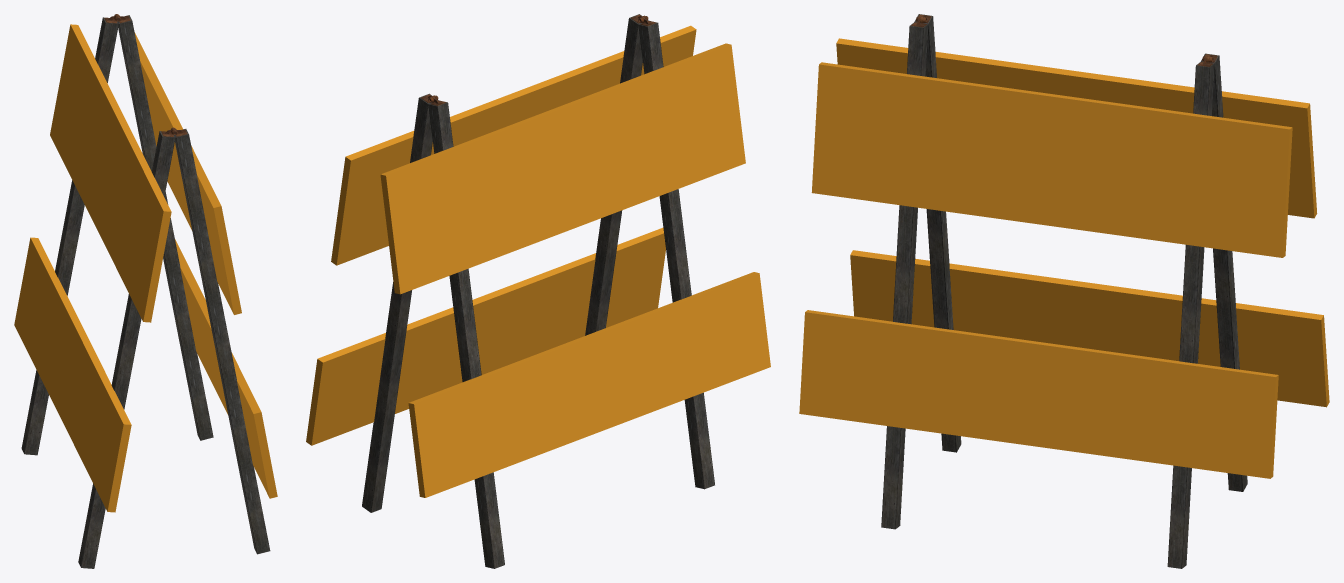
The model's file is wood road barrier.fbx.
3 renders of one model, left to right at view 1: azimuth 30°, elevation 25°; view 2: azimuth 150°, elevation 25°; view 3: azimuth 270°, elevation 25°, orthographic. The views are drawn at different scales.
Visible parts, largest first — view 1: Куб.005, Cube.007, Cube.002; view 2: Куб.005, Cube.007; view 3: Куб.005, Cube.007.
Part boxes in pixels (bbox=[...]): Куб.005: bbox=[14, 24, 277, 512]; Cube.007: bbox=[21, 15, 270, 568]; Cube.002: bbox=[104, 14, 186, 136]; Куб.005: bbox=[306, 25, 770, 497]; Cube.007: bbox=[362, 14, 714, 568]; Куб.005: bbox=[799, 38, 1329, 478]; Cube.007: bbox=[881, 14, 1247, 568].
Bounding box in the file's own units: 4451 × 6908 × 7041.
